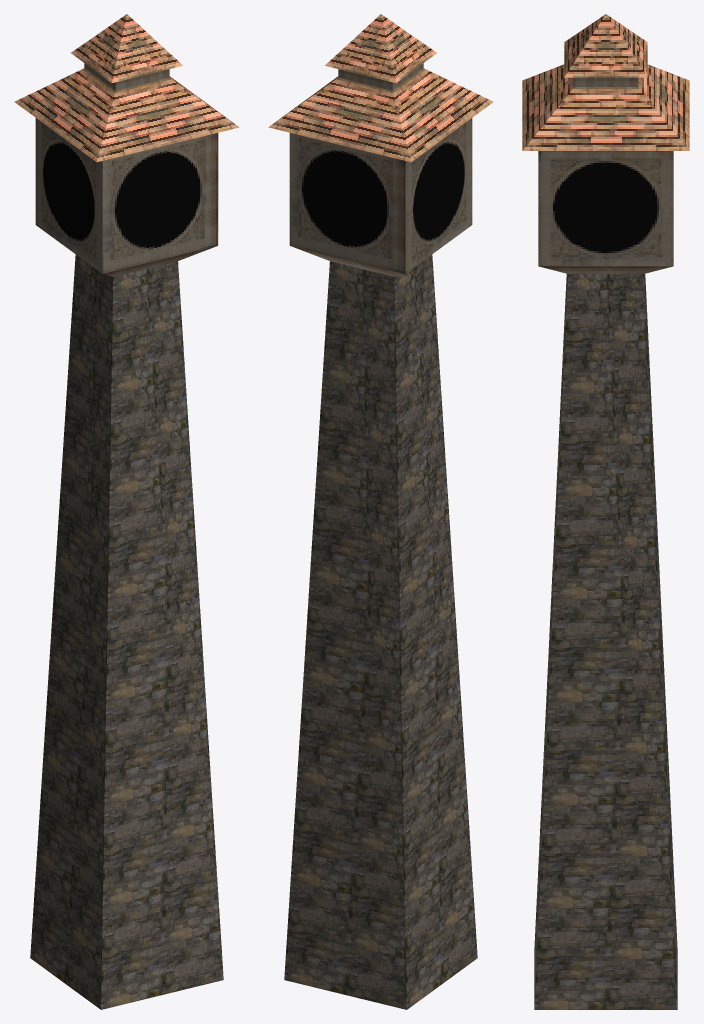
Rendered from clock_tower.glb.
3 views of the same model, side by side, from view 1: azimuth 30°, elevation 25°; view 2: azimuth 150°, elevation 25°; view 3: azimuth 270°, elevation 25° (orthographic).
Parts seen in each view (by area): view 1: clock_tower, clock_tower_top; view 2: clock_tower, clock_tower_top; view 3: clock_tower, clock_tower_top.
Boxes of the visible parts, x1,y1,x2,y2 form: clock_tower: (30, 254, 223, 1009); clock_tower_top: (14, 14, 239, 276); clock_tower: (284, 254, 477, 1009); clock_tower_top: (268, 14, 493, 276); clock_tower: (534, 274, 677, 1009); clock_tower_top: (522, 14, 689, 273).
Size of the model in its own units: 9.9 by 63.14 by 9.9.
2 materials, 2 textured.
